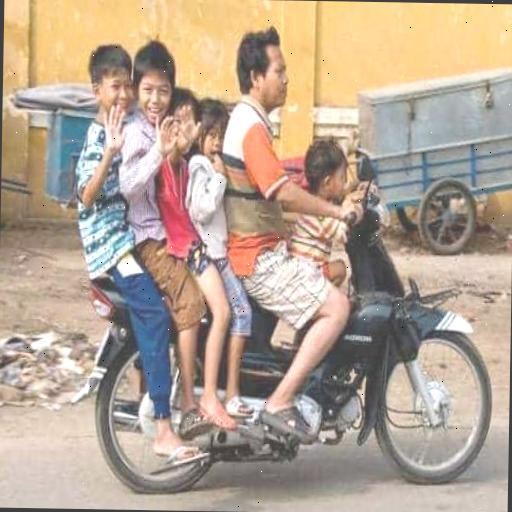no helmet: (207, 22, 307, 124)
triple riding: (58, 12, 502, 502)
